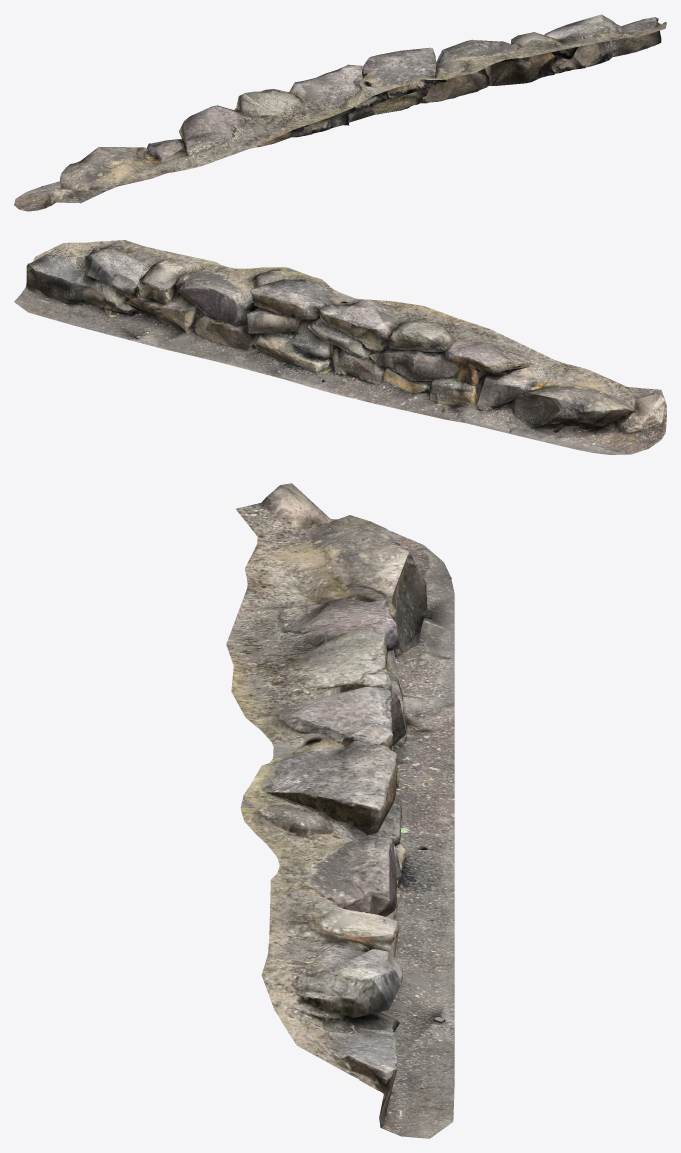
The model's file is wall2.glb.
3 renders of one model, top to bottom at view 1: azimuth 30°, elevation 25°; view 2: azimuth 150°, elevation 25°; view 3: azimuth 270°, elevation 25°, orthographic. The views are drawn at different scales.
Parts seen in each view (by area): view 1: Object_2; view 2: Object_2; view 3: Object_2.
Part boxes in pixels (box(x1,y1,x2,y2)): Object_2: box(14, 14, 666, 211); Object_2: box(14, 240, 666, 454); Object_2: box(226, 483, 454, 1138).
Bounding box in the file's own units: 11.01 × 1.11 × 1.73.
1 material, 1 textured.
